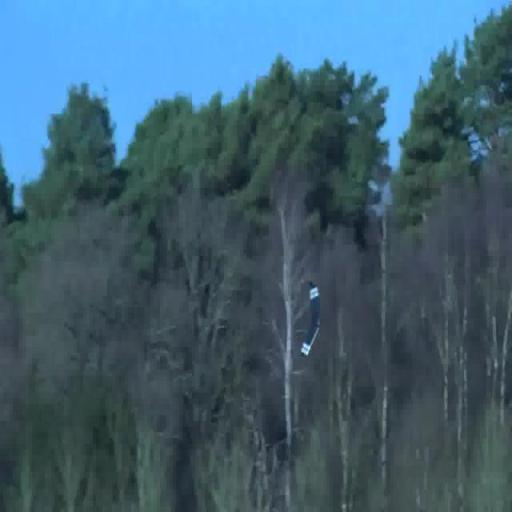uav: (300, 282, 324, 363)
